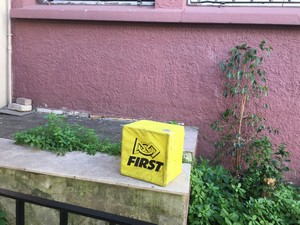cube: (122, 120, 184, 185)
